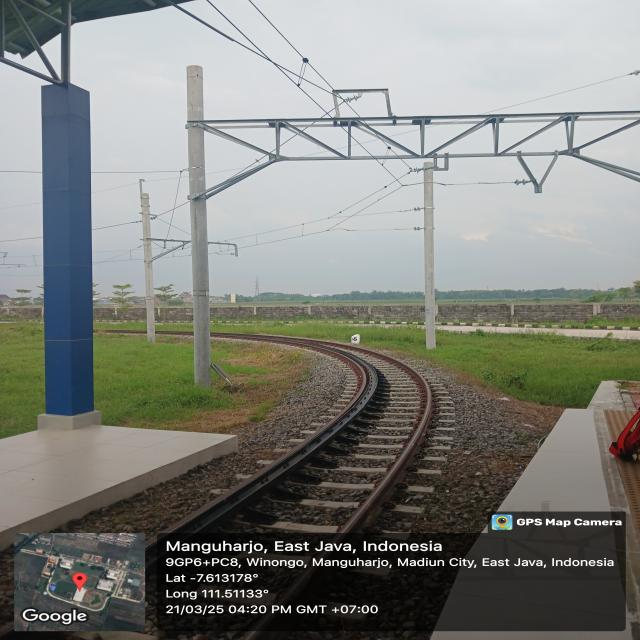rail-detection: (150, 333, 433, 560)
